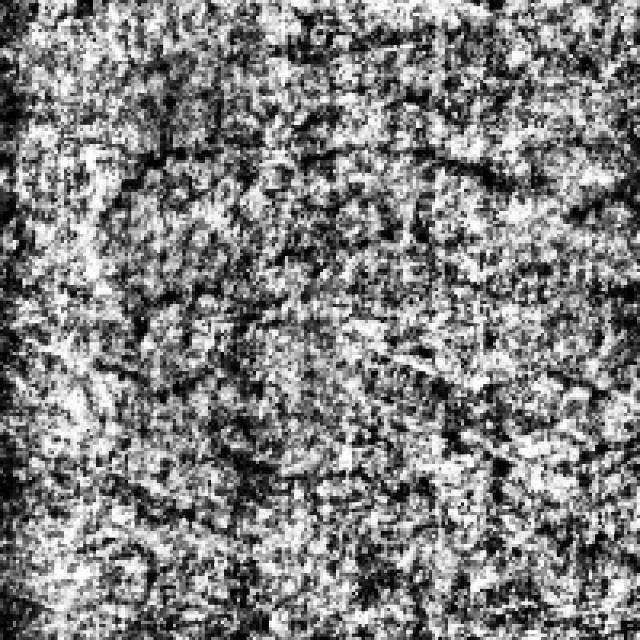Pitted_Surface: (87, 240, 410, 499), (96, 80, 624, 224)
